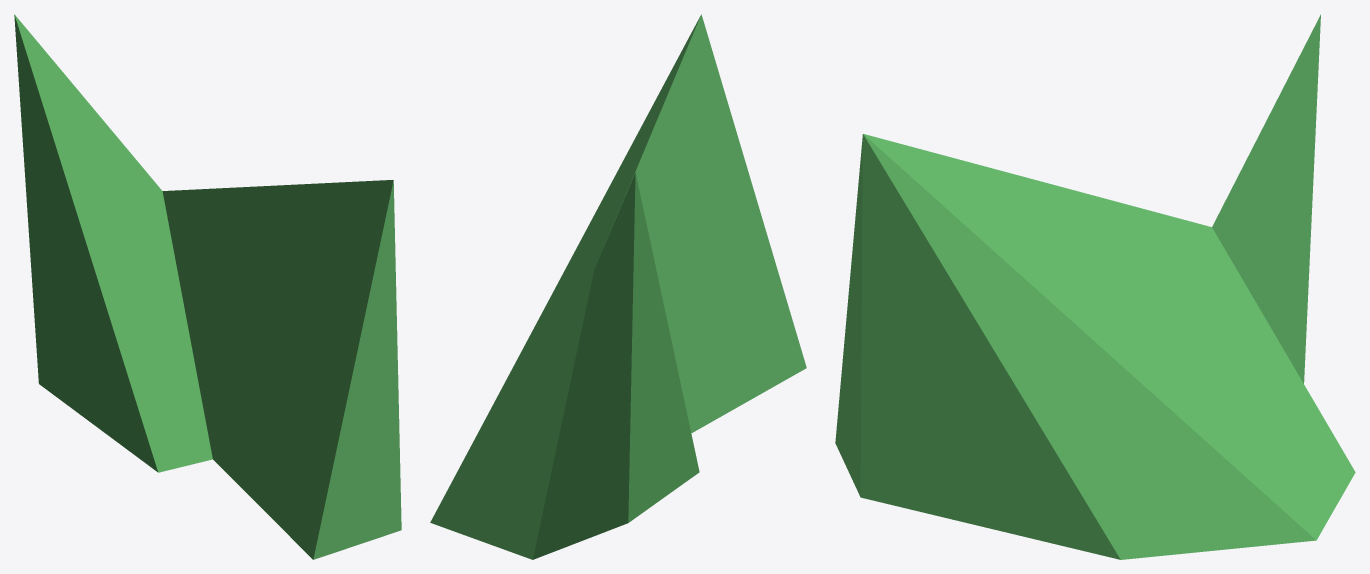
The model's file is STA_Project_Vegetations_Grass_V1.fbx.
The picture shows the model from 3 angles, left to right: view 1: azimuth 30°, elevation 25°; view 2: azimuth 150°, elevation 25°; view 3: azimuth 270°, elevation 25°; orthographic projection. The views are drawn at different scales.
Visible parts, largest first — view 1: Grass_V1; view 2: Grass_V1; view 3: Grass_V1.
Part boxes in pixels (left/top/right/bottom): Grass_V1: left=14, top=14, right=401, bottom=559; Grass_V1: left=430, top=14, right=806, bottom=559; Grass_V1: left=835, top=14, right=1355, bottom=559.
Size of the model in its own units: 51.43 by 80.78 by 90.48.
1 material, 1 textured.
